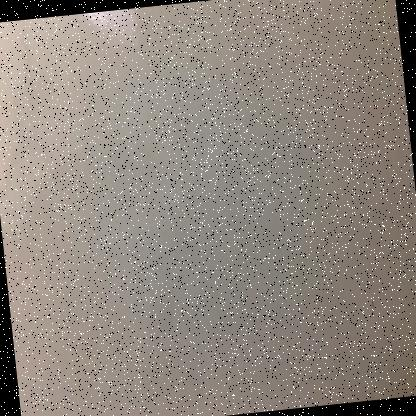Nocrack: (0, 7, 402, 409)
